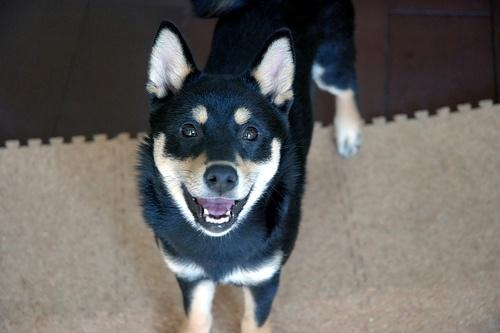dog: (135, 1, 365, 333)
